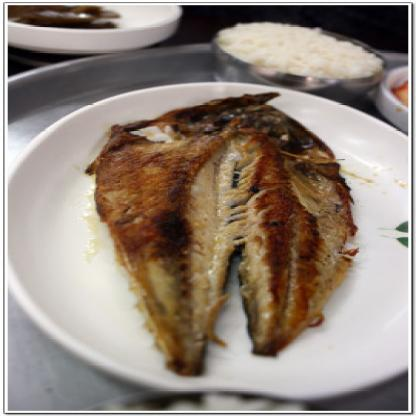Peixe: (40, 96, 401, 378)
